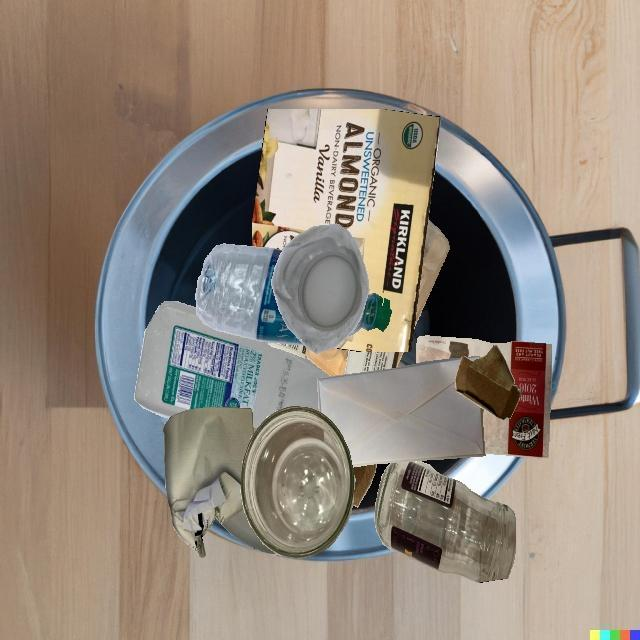cardboard: (252, 109, 441, 352), (455, 345, 521, 420), (353, 464, 376, 507)
glass: (240, 406, 355, 559), (374, 461, 516, 583)
paper: (317, 358, 485, 467), (416, 336, 552, 458), (164, 407, 254, 558), (344, 350, 399, 375), (268, 342, 307, 358)
plastic: (134, 301, 331, 429), (271, 224, 369, 354), (196, 244, 303, 344), (333, 266, 422, 368), (216, 427, 263, 544), (422, 219, 449, 266), (305, 347, 348, 376)
